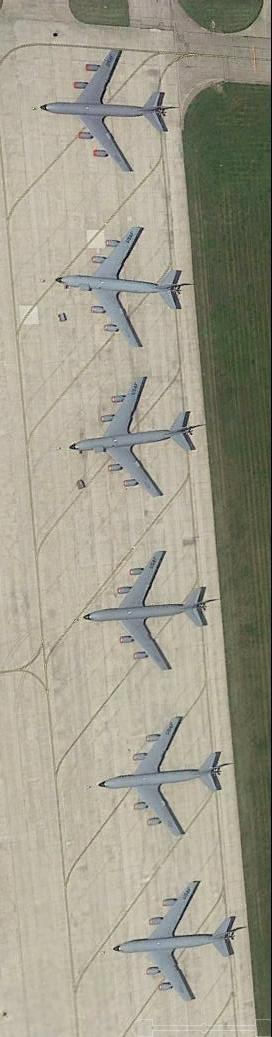KC-135: (54, 223, 188, 355), (40, 46, 174, 175), (94, 718, 233, 841), (67, 375, 201, 499), (113, 877, 243, 1004), (81, 552, 217, 673)
